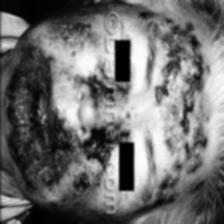Potentially Malignant Skin Tumors: (12, 56, 28, 176), (58, 128, 72, 176)
